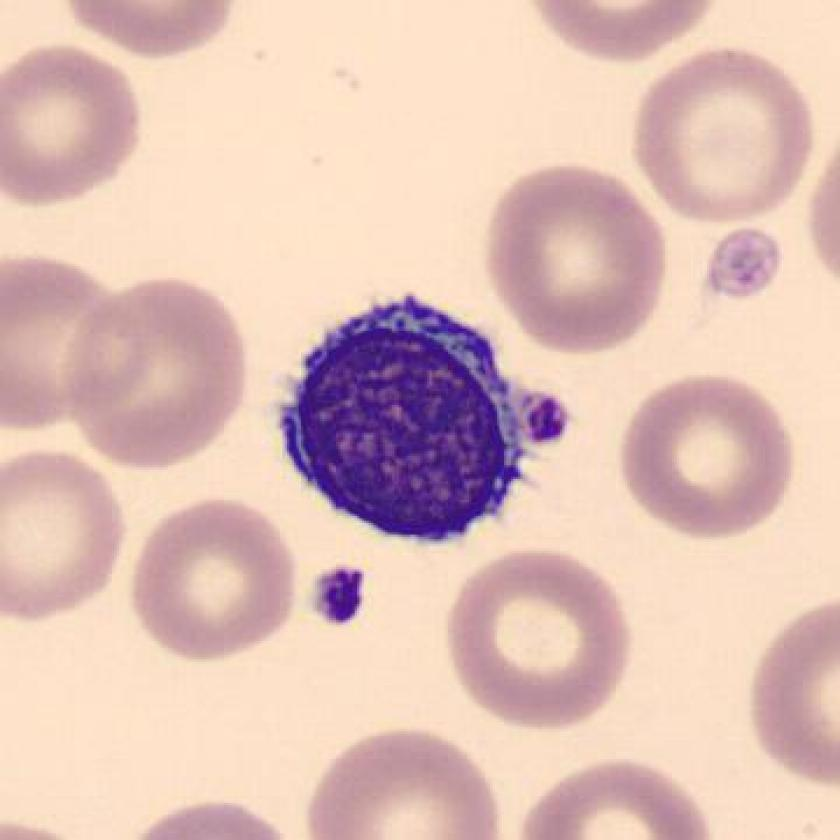lymphocyte: (258, 281, 570, 566)
